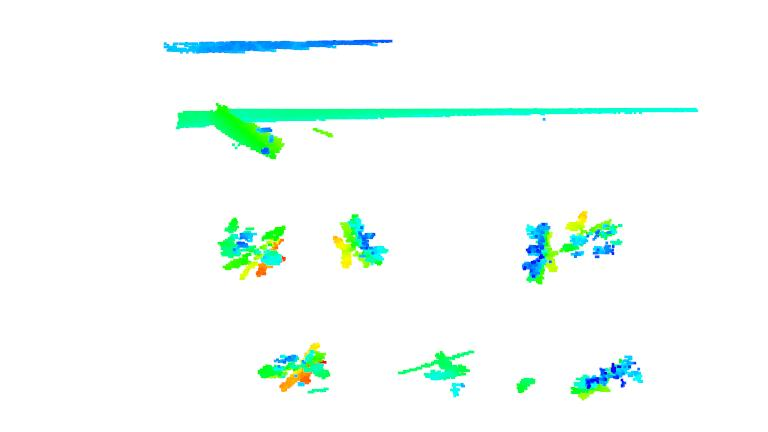chickpea: (257, 345, 341, 400), (218, 218, 289, 280), (564, 347, 646, 397), (335, 214, 392, 272), (560, 211, 627, 260), (522, 220, 566, 292), (421, 348, 468, 396), (511, 376, 545, 400)
